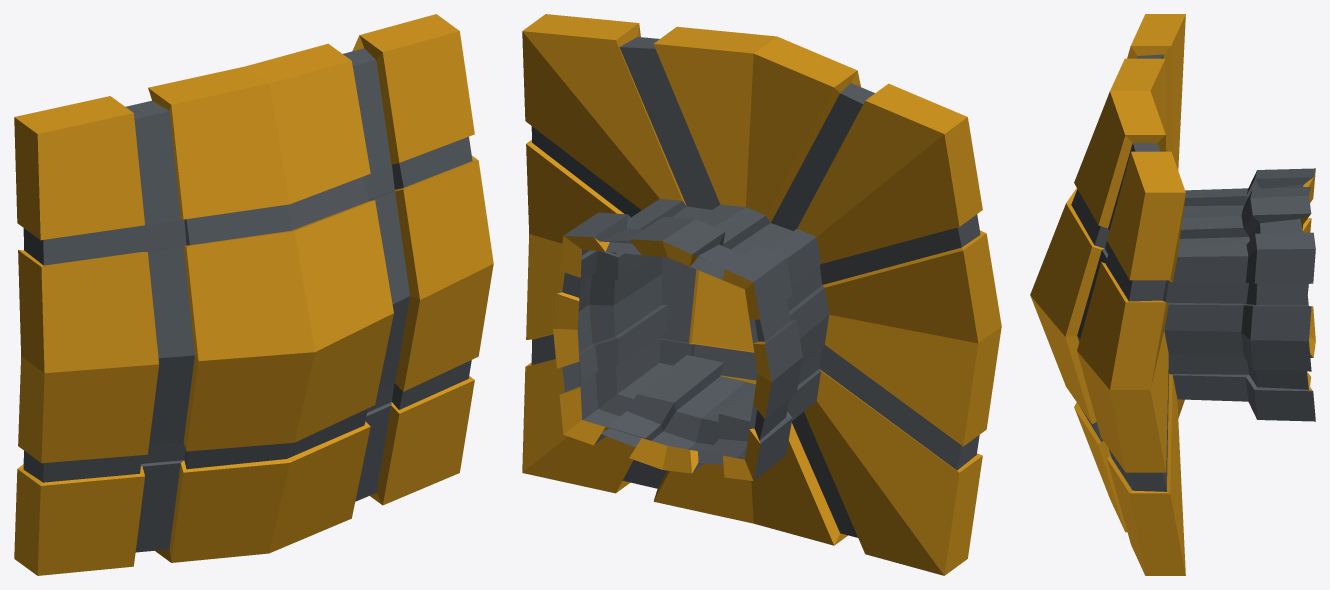
The model's file is Personal_Vehicle_01_Bumper_Yellow.fbx.
The picture shows the model from 3 angles, left to right: view 1: azimuth 30°, elevation 25°; view 2: azimuth 150°, elevation 25°; view 3: azimuth 270°, elevation 25°; orthographic projection. The views are drawn at different scales.
Parts seen in each view (by area): view 1: Personal_Vehicle_01_Bumper_Yellow; view 2: Personal_Vehicle_01_Bumper_Yellow; view 3: Personal_Vehicle_01_Bumper_Yellow.
Part boxes in pixels (<box>): Personal_Vehicle_01_Bumper_Yellow: <box>14,14,493,575</box>; Personal_Vehicle_01_Bumper_Yellow: <box>522,14,1001,575</box>; Personal_Vehicle_01_Bumper_Yellow: <box>1030,14,1315,575</box>.
Size of the model in its own units: 37.83 by 37.83 by 24.03.
Materials: 1 (1 with a texture image).
